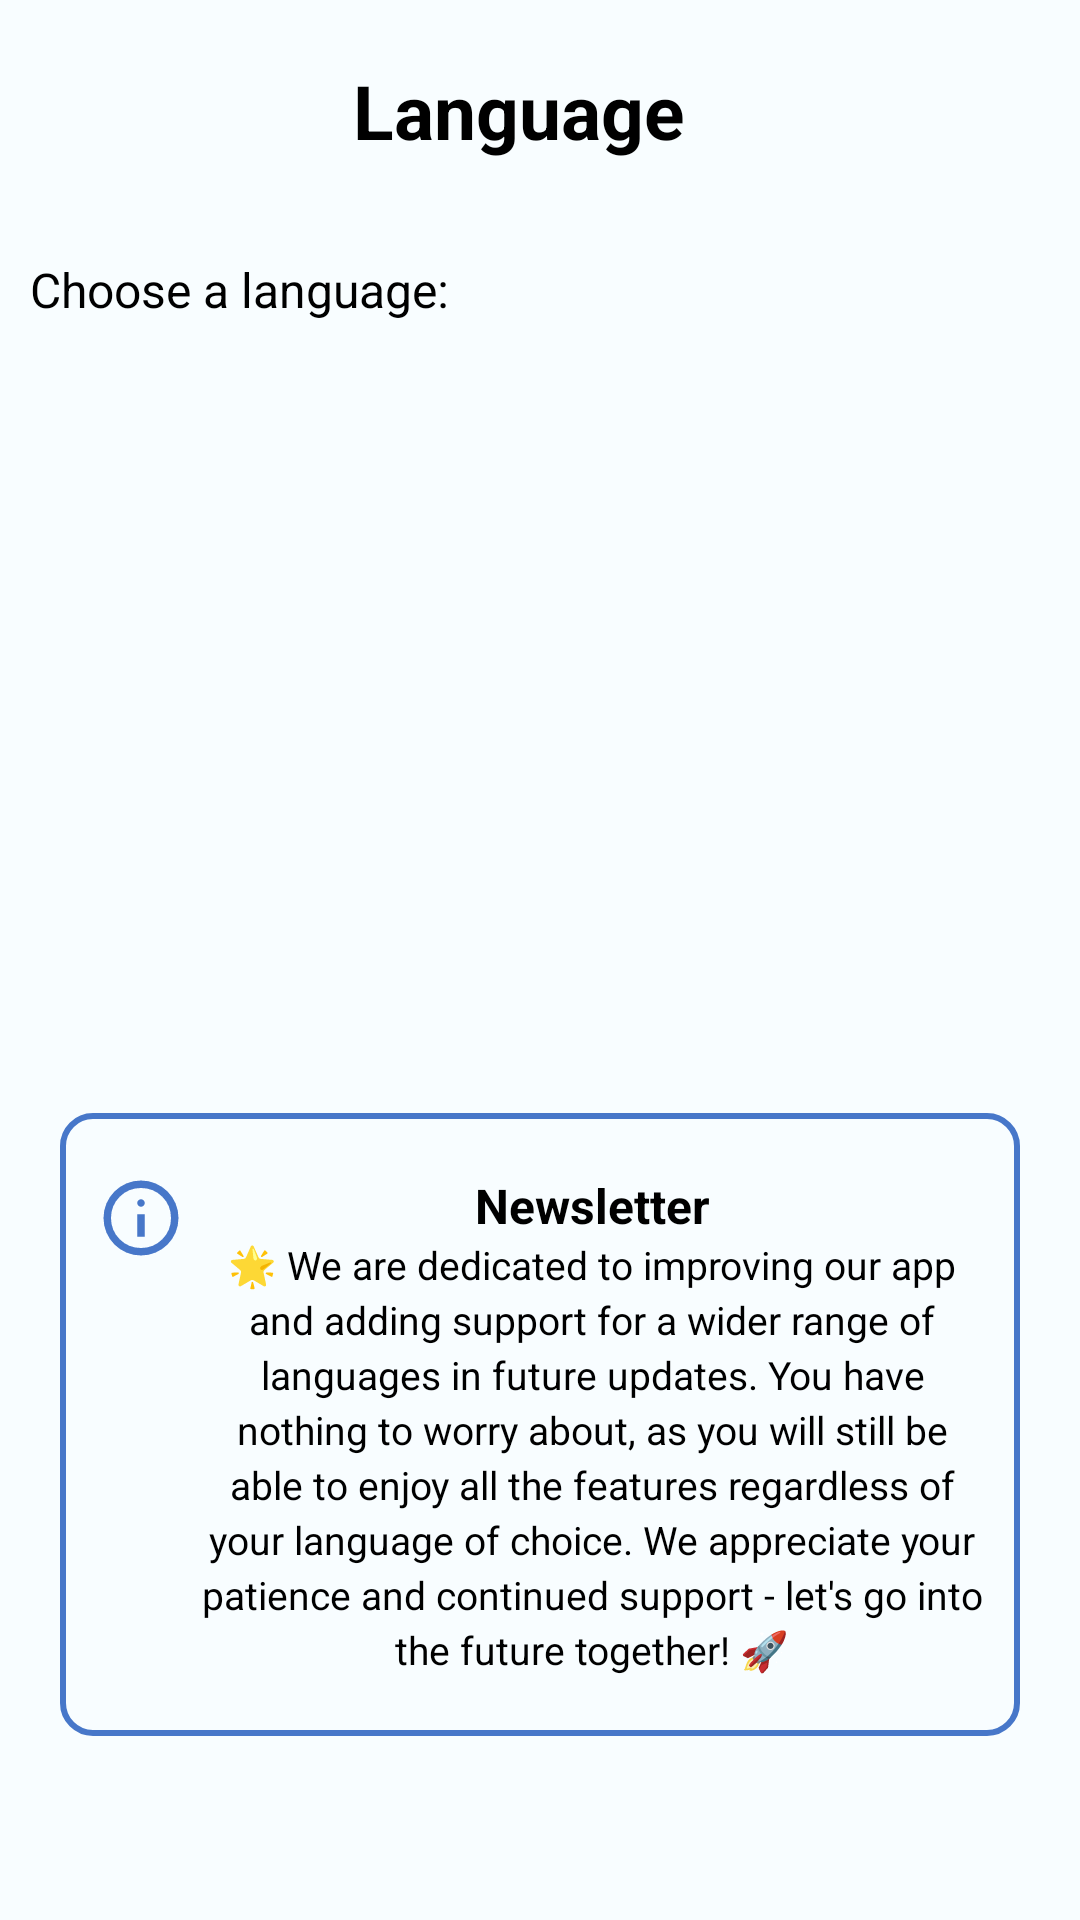

Icon bounding boxes for this 1080 × 1920 phone screenshot, format (x1, y1, x2, y2):
info: (103, 1180, 179, 1256)
